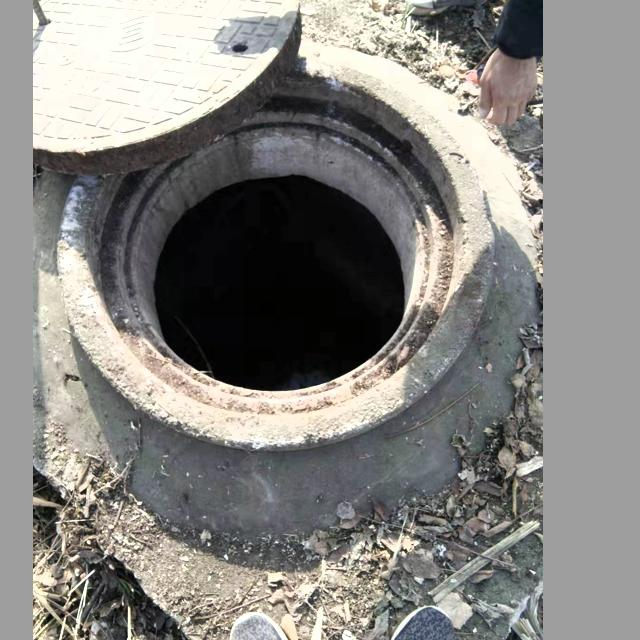uncovered: (36, 0, 496, 446)
